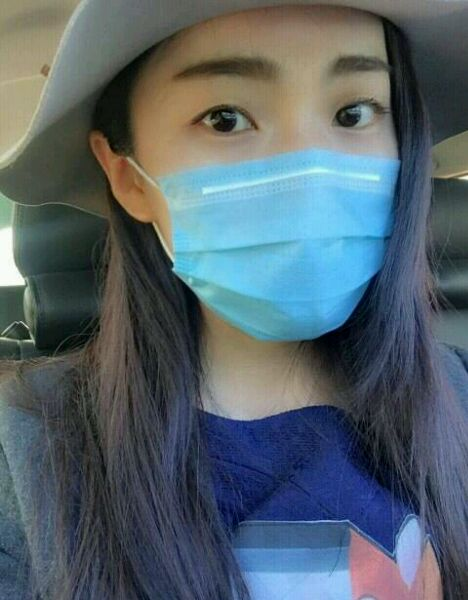face_mask: (148, 0, 407, 340)
